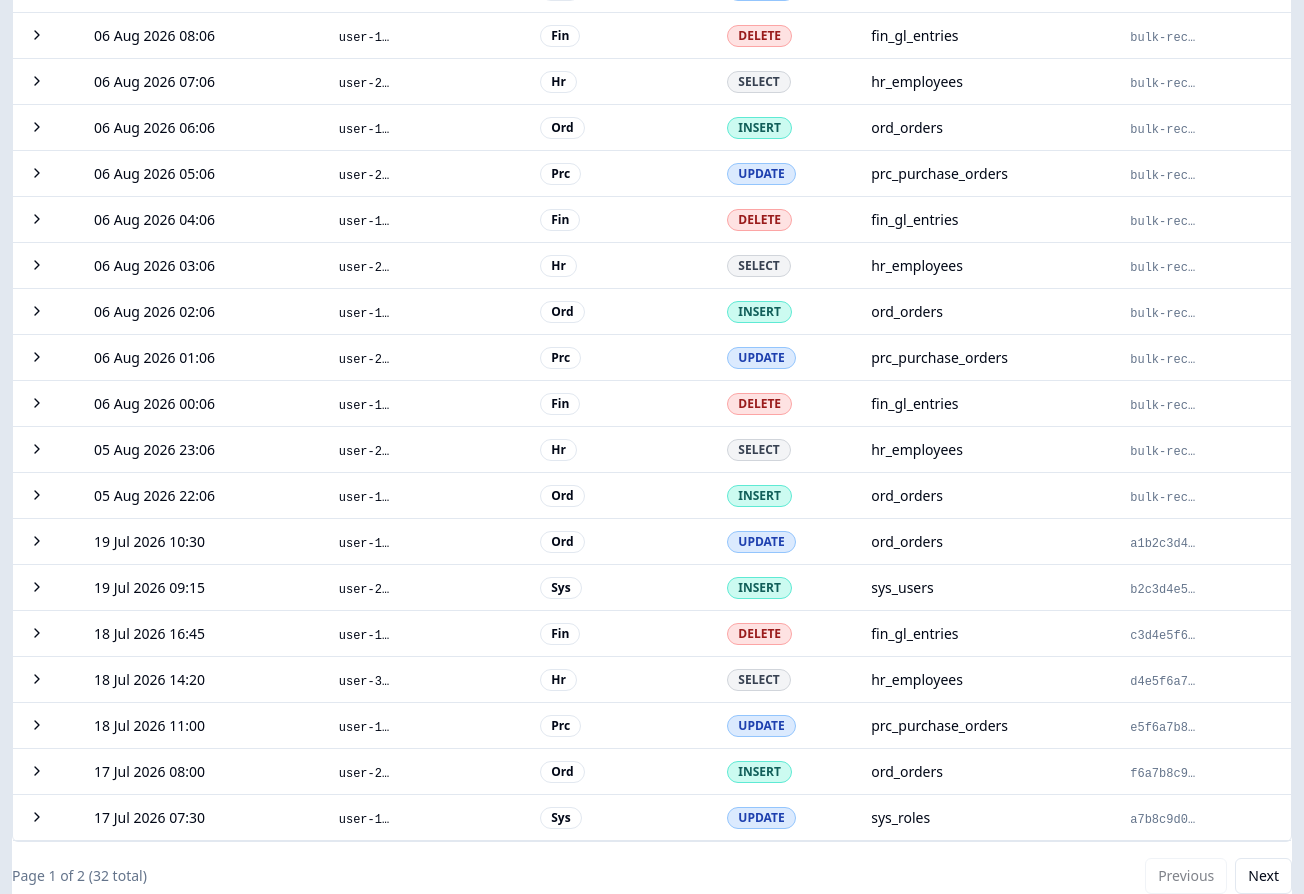
Test: AuditLogPage › renders nested diff recursively
(page scrolled)
Note: Expand audit-6 which has nested object in newValue
Click the row with test id "audit-row-audit-6": [652, 772] box [13,748,1291,794]
(page scrolled)
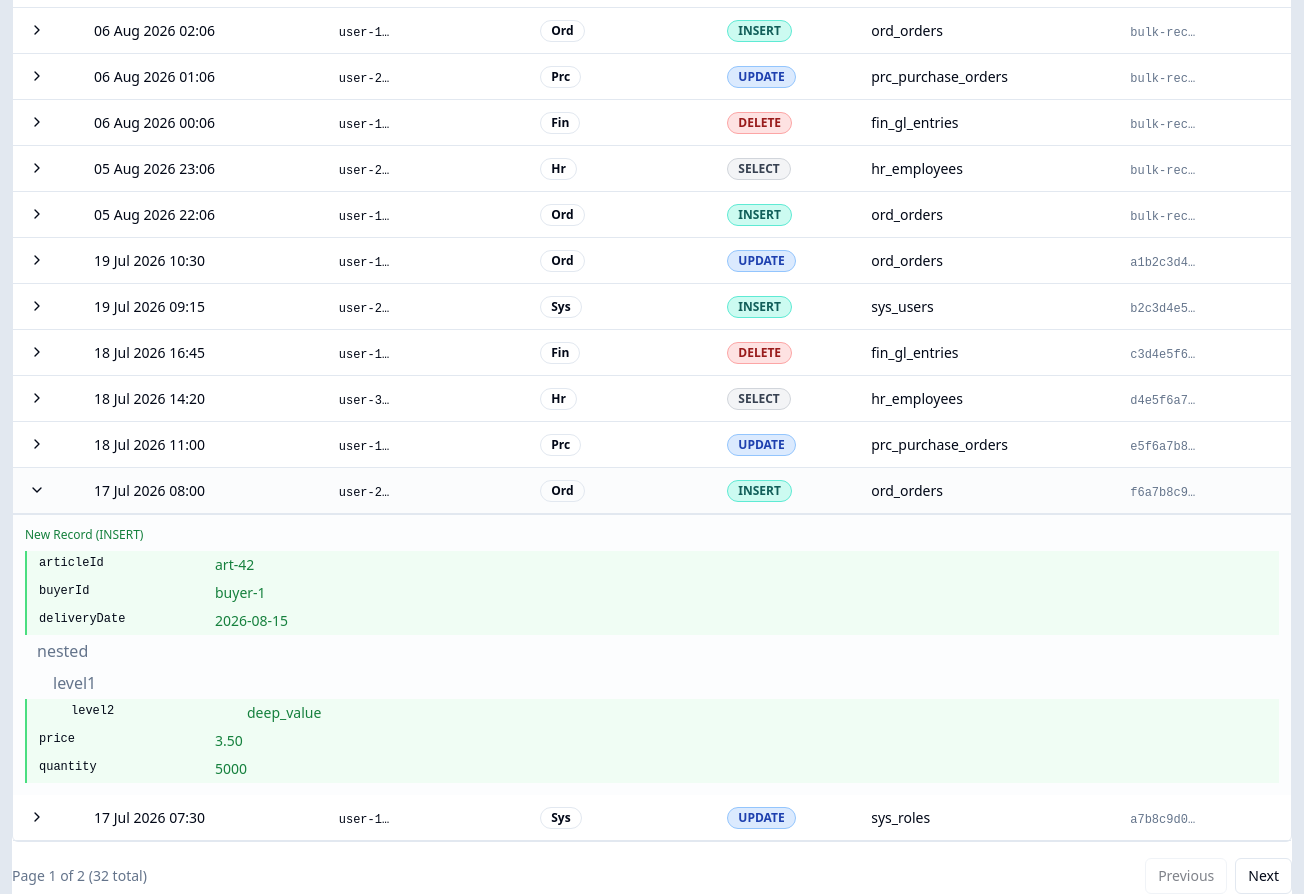
Now the row with test id "expanded-row-audit-6" is shown, box [13,514,1291,795]
Now the text "level1" is shown, box [53,672,96,694]
Now the text "level2" is shown, box [71,704,114,718]
